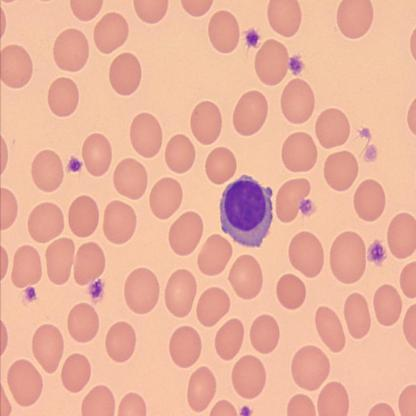Atypical lymphocyte: (219, 172, 275, 247)
